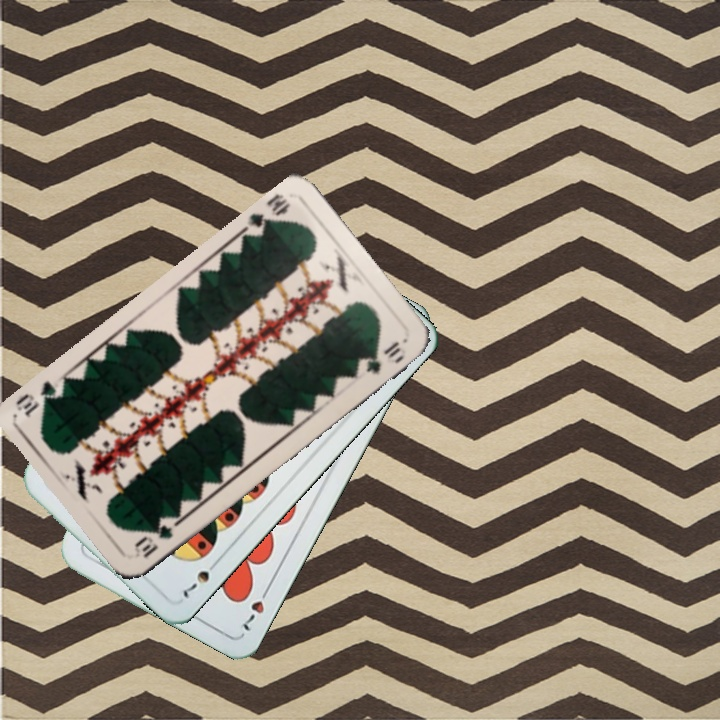G10: (242, 189, 294, 240), (130, 520, 176, 561)
H7: (237, 581, 274, 634)
S7: (179, 555, 222, 601)
